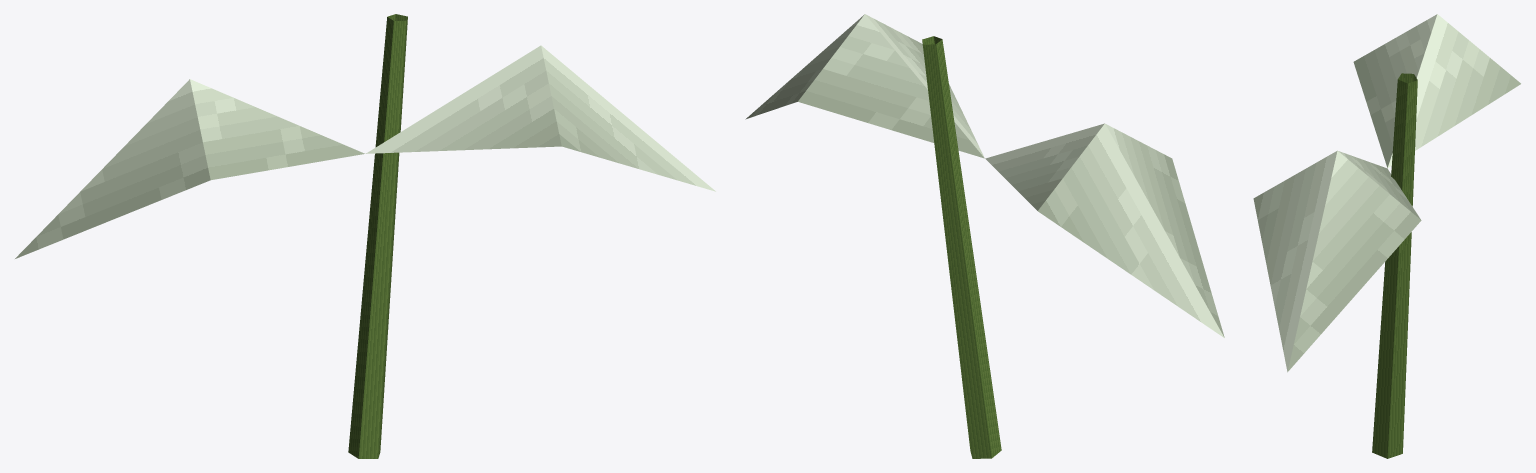
Rendered from hybrid_0_lod.obj.
3 renders of one model, left to right at view 1: azimuth 30°, elevation 25°; view 2: azimuth 150°, elevation 25°; view 3: azimuth 270°, elevation 25°, orthographic. The views are drawn at different scales.
Visible parts, largest first — view 1: plant; view 2: plant; view 3: plant.
Boxes of the visible parts, left/top/right/bottom form: plant: left=15, top=14, right=715, bottom=458; plant: left=745, top=14, right=1224, bottom=458; plant: left=1253, top=14, right=1520, bottom=458.
Size of the model in its own units: 0.2985 by 0.2014 by 0.1238.
